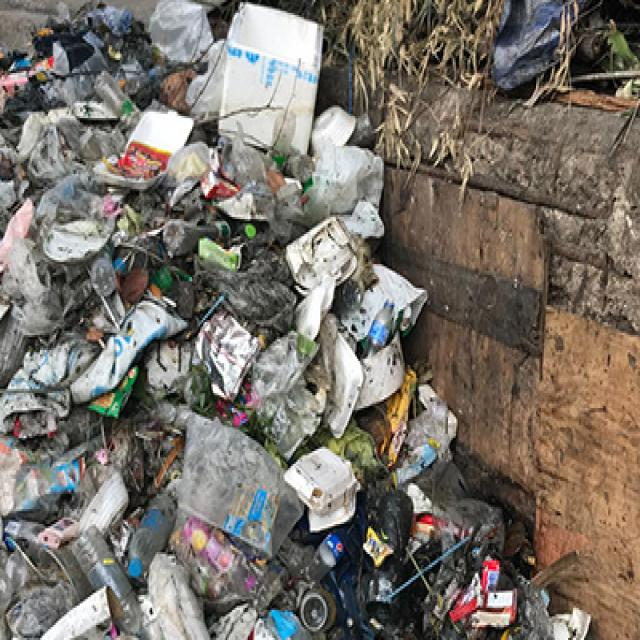-: (0, 81, 344, 640), (246, 573, 328, 640)
